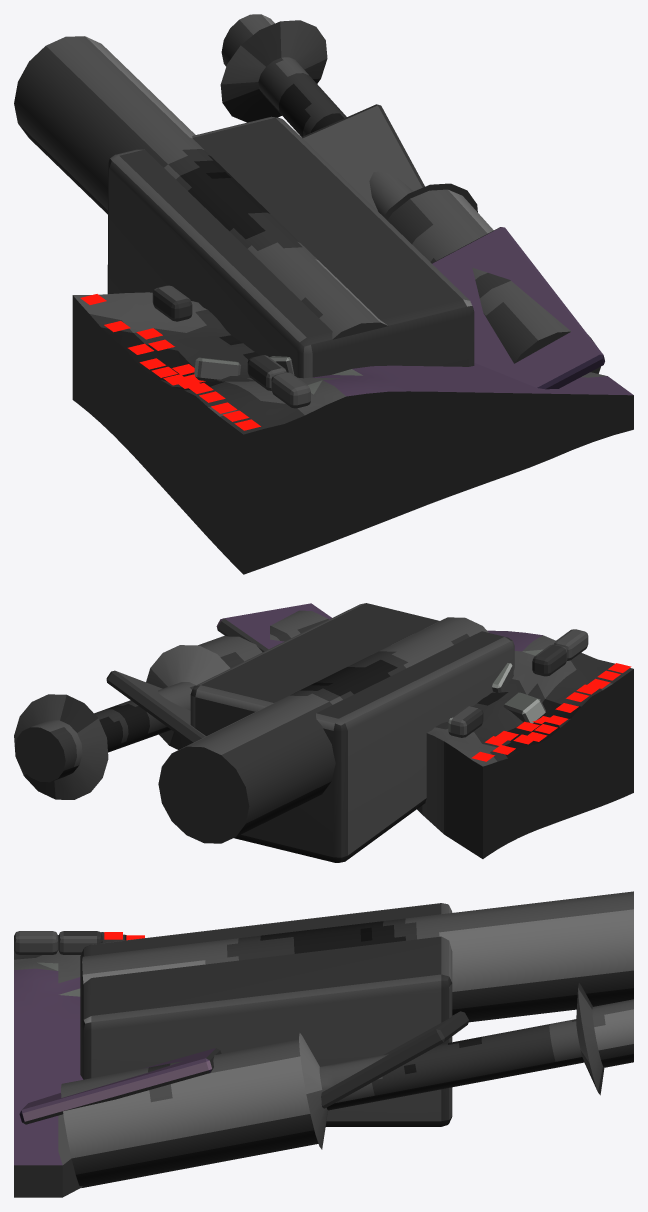
Rendered from camanis_boss_246.glb.
3 renders of one model, top to bottom at view 1: azimuth 30°, elevation 25°; view 2: azimuth 150°, elevation 25°; view 3: azimuth 270°, elevation 25°, orthographic. The views are drawn at different scales.
Parts seen in each view (by area): view 1: camanis_boss_246; view 2: camanis_boss_246; view 3: camanis_boss_246.
Part boxes in pixels (x1=…): camanis_boss_246: x1=14, y1=14, x2=633, y2=574; camanis_boss_246: x1=14, y1=603, x2=633, y2=862; camanis_boss_246: x1=14, y1=891, x2=633, y2=1197.
Bounding box in the file's own units: 19.2 × 11.95 × 28.
